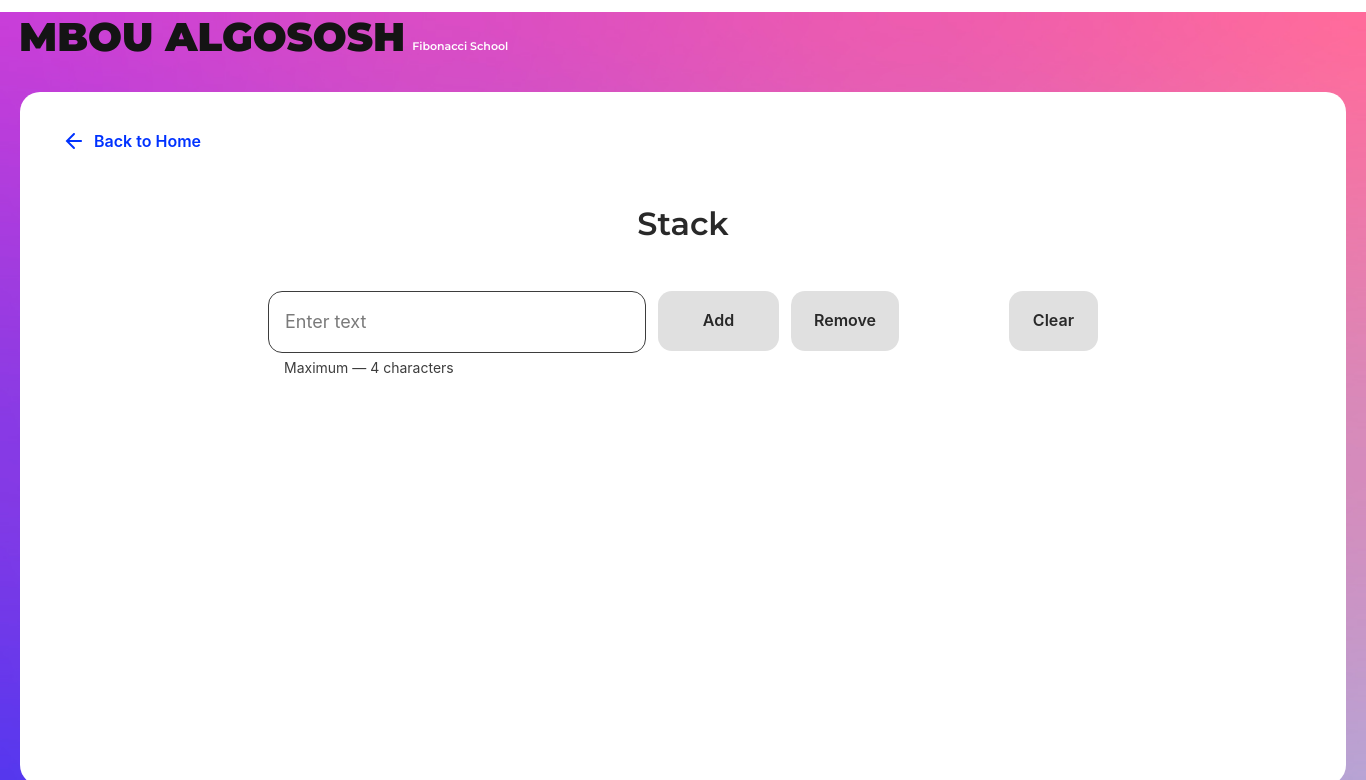
Testing Stack Functionality › Adding the first element to the Stack works correctly
Type "1" into the field with test id "input" at (457, 322), box [268, 291, 646, 353]
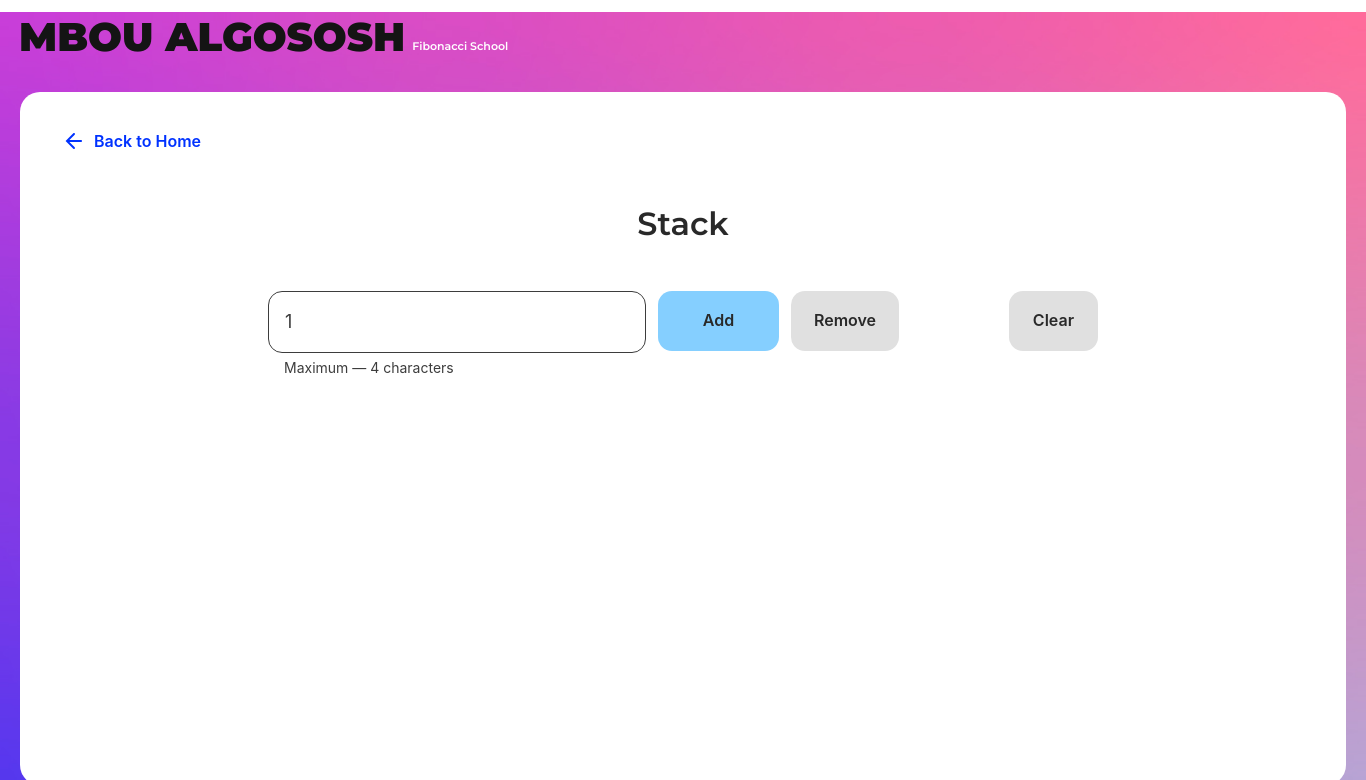
Click the button with test id "addBtn" at (719, 321), box [658, 291, 779, 351]
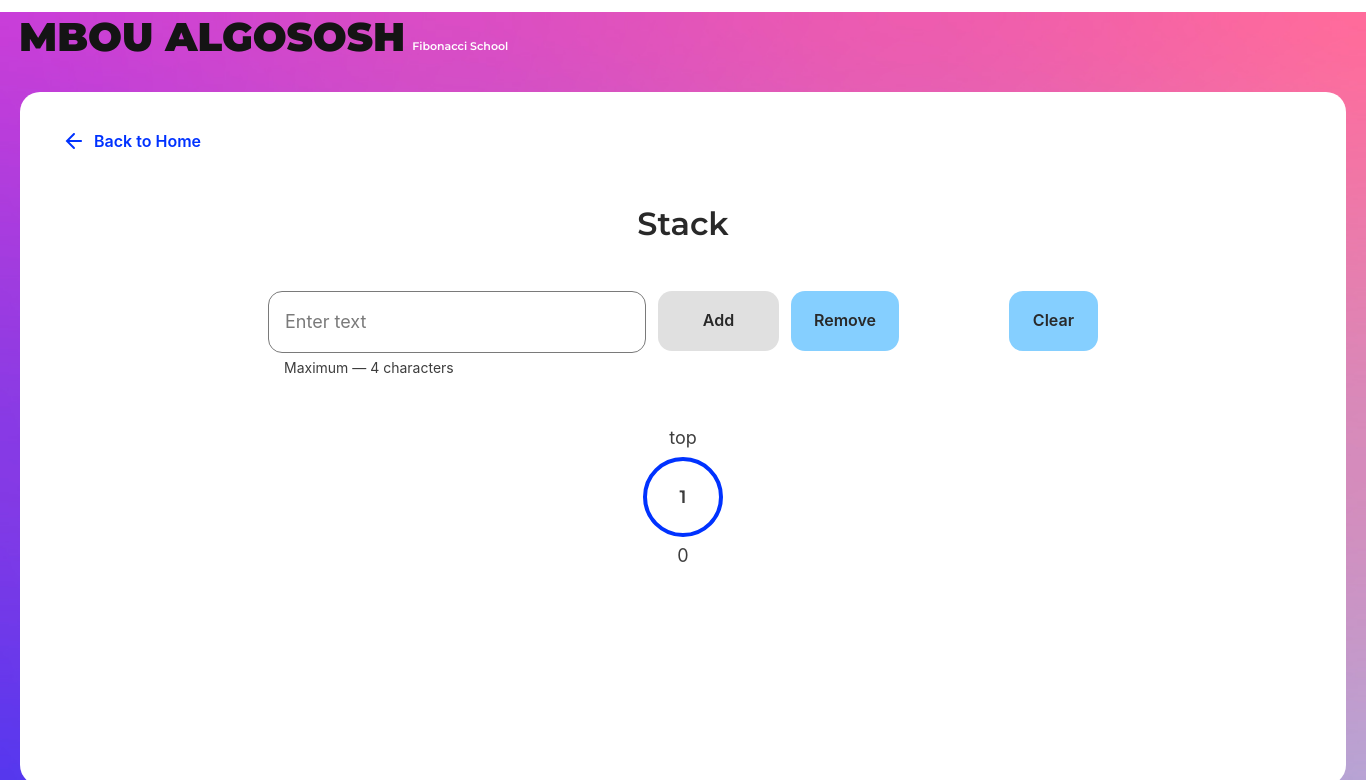
Result: the text with test id "circle" reads "1" at [680, 486, 687, 508]
Result: the text with test id "head" reads "top" at [669, 427, 697, 448]
Result: the text with test id "index" reads "0" at [677, 545, 688, 566]
